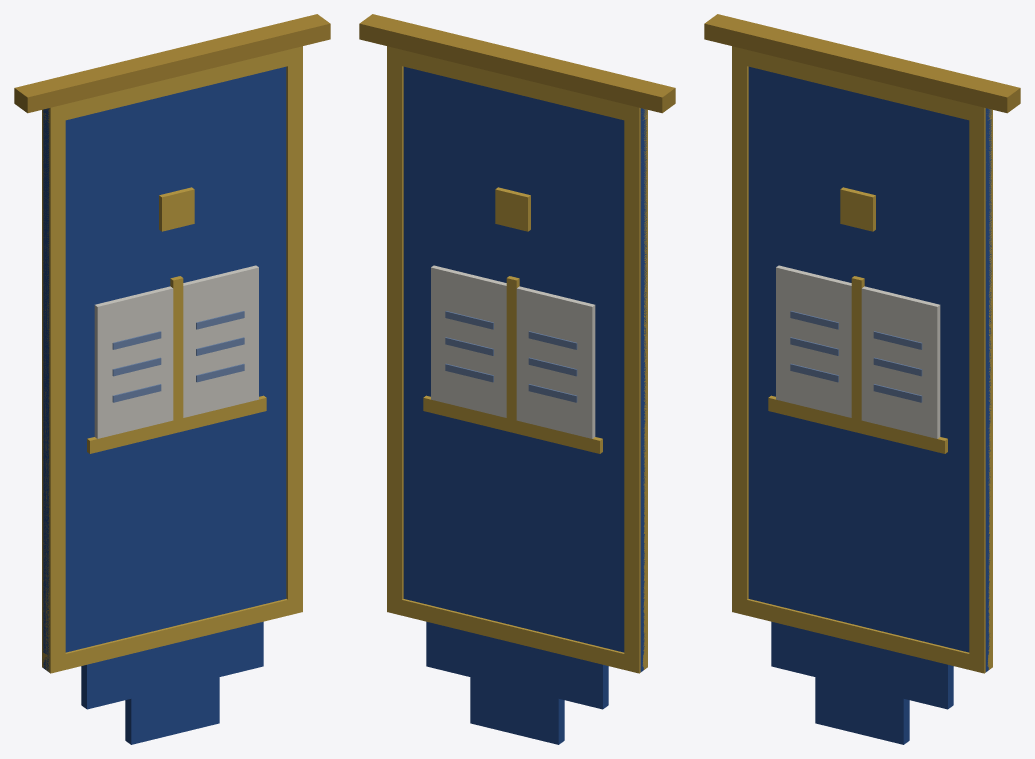
File: tv-book-banner.glb
3 views of the same model, side by side, from view 1: azimuth 30°, elevation 25°; view 2: azimuth 150°, elevation 25°; view 3: azimuth 330°, elevation 25° (orthographic).
Parts seen in each view (by area): view 1: box-prop; view 2: box-prop; view 3: box-prop.
Boxes of the visible parts, x1,y1,x2,y2 form: box-prop: (14,14,330,744); box-prop: (359,14,675,744); box-prop: (704,14,1020,744).
Bounding box in the file's own units: 2.4 × 5.12 × 0.18.
